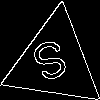S: (29, 36, 75, 93)
